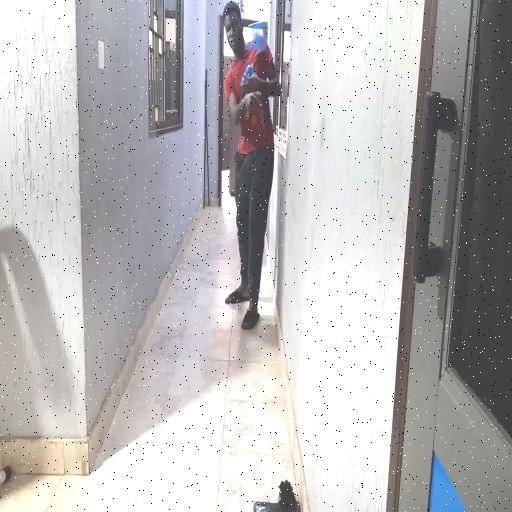plastic-ball: (250, 17, 269, 51)
